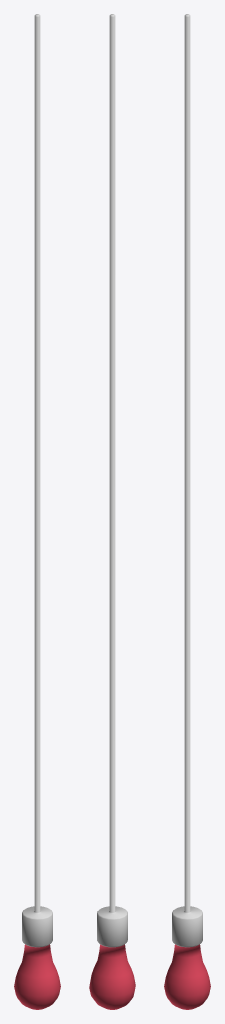
The model's file is LightBulb_001.fbx.
The picture shows the model from 3 angles, left to right: view 1: azimuth 90°, elevation 25°; view 2: azimuth 210°, elevation 25°; view 3: azimuth 270°, elevation 25°; orthographic projection.
Parts seen in each view (by area): view 1: LightBulb_001; view 2: LightBulb_001; view 3: LightBulb_001.
Boxes of the visible parts, x1,y1,x2,y2 form: LightBulb_001: [14, 14, 60, 1009]; LightBulb_001: [89, 14, 135, 1009]; LightBulb_001: [164, 14, 210, 1009].
Bounding box in the file's own units: 0.1096 × 2.56 × 0.1096.
